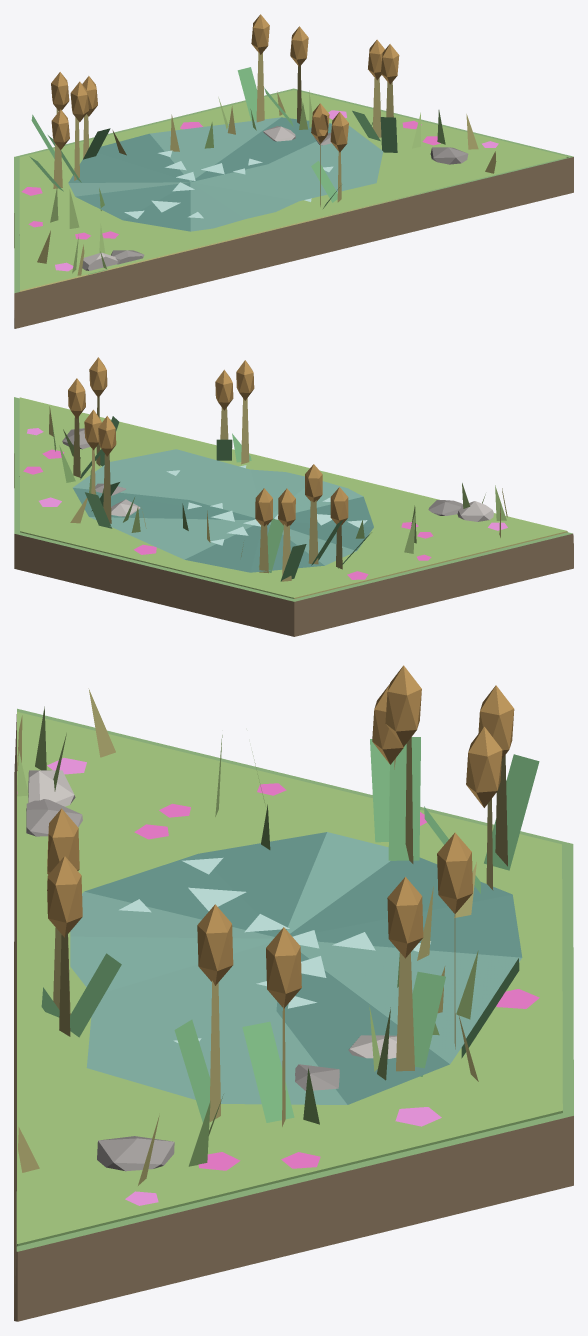
File: wetland_half_sprint2_tryfix.glb
The picture shows the model from 3 angles, top to bottom: view 1: azimuth 30°, elevation 25°; view 2: azimuth 150°, elevation 25°; view 3: azimuth 270°, elevation 25°; orthographic projection. The views are drawn at different scales.
Parts seen in each view (by area): view 1: GrassTerrain, HexBase, WaterPool, Reed_Leaf.008, Reed_Leaf.005, Stone_27, Reed_Head.007, Reed_Head.008, Reed_Head.005, Reed_Head.009, Reed_Head.006, Reed_Head.002 (+7 smaller); view 2: GrassTerrain, HexBase, WaterPool, Reed_Leaf.001, Reed_Head.003, Stone_20, Reed_Head, Reed_Head.001, Reed_Head.002, Reed_Head.006, Reed_Head.007, Reed_Head.008 (+11 smaller); view 3: GrassTerrain, WaterPool, HexBase, Reed_Leaf.002, Reed_Leaf.004, Reed_Leaf, Reed_Head.009, Reed_Head.004, Reed_Head.005, Reed_Head.006, Reed_Head.008, Stone_27 (+18 smaller).
Part boxes in pixels (x1=…): GrassTerrain: x1=19, y1=90, x2=568, y2=291; HexBase: x1=14, y1=88, x2=573, y2=328; WaterPool: x1=68, y1=117, x2=383, y2=231; Reed_Leaf.008: x1=237, y1=67, x2=257, y2=121; Reed_Leaf.005: x1=380, y1=117, x2=397, y2=152; Stone_27: x1=430, y1=147, x2=468, y2=164; Reed_Head.007: x1=311, y1=103, x2=329, y2=143; Reed_Head.008: x1=251, y1=14, x2=269, y2=54; Reed_Head.005: x1=380, y1=44, x2=399, y2=84; Reed_Head.009: x1=290, y1=26, x2=308, y2=66; Reed_Head.006: x1=330, y1=112, x2=348, y2=152; Reed_Head.002: x1=70, y1=81, x2=88, y2=122; GrassTerrain: x1=19, y1=397, x2=567, y2=598; HexBase: x1=14, y1=397, x2=573, y2=636; WaterPool: x1=73, y1=449, x2=373, y2=572; Reed_Leaf.001: x1=258, y1=519, x2=283, y2=572; Reed_Head.003: x1=330, y1=487, x2=348, y2=524; Stone_20: x1=457, y1=501, x2=493, y2=521; Reed_Head: x1=278, y1=488, x2=295, y2=526; Reed_Head.001: x1=255, y1=488, x2=272, y2=526; Reed_Head.002: x1=305, y1=464, x2=322, y2=502; Reed_Head.006: x1=215, y1=369, x2=233, y2=410; Reed_Head.007: x1=236, y1=360, x2=254, y2=400; Reed_Head.008: x1=98, y1=416, x2=116, y2=456; GrassTerrain: x1=17, y1=712, x2=562, y2=1246; WaterPool: x1=70, y1=832, x2=522, y2=1104; HexBase: x1=14, y1=708, x2=573, y2=1321; Reed_Leaf.002: x1=388, y1=737, x2=420, y2=860; Reed_Leaf.004: x1=242, y1=1021, x2=294, y2=1122; Reed_Leaf: x1=484, y1=754, x2=539, y2=870; Reed_Head.009: x1=387, y1=877, x2=423, y2=958; Reed_Head.004: x1=266, y1=927, x2=301, y2=1008; Reed_Head.005: x1=197, y1=904, x2=233, y2=985; Reed_Head.006: x1=47, y1=856, x2=82, y2=937; Reed_Head.008: x1=437, y1=832, x2=472, y2=913; Stone_27: x1=97, y1=1136, x2=174, y2=1171.
Size of the model in its own units: 5 by 1.25 by 2.18.
